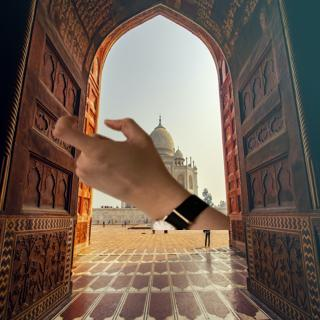HATE: (46, 107, 174, 208)
